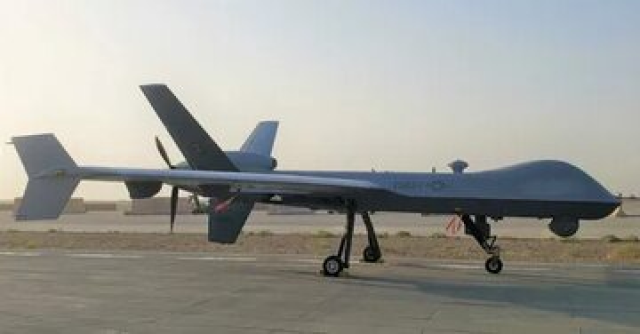military drone: (5, 83, 622, 276)
